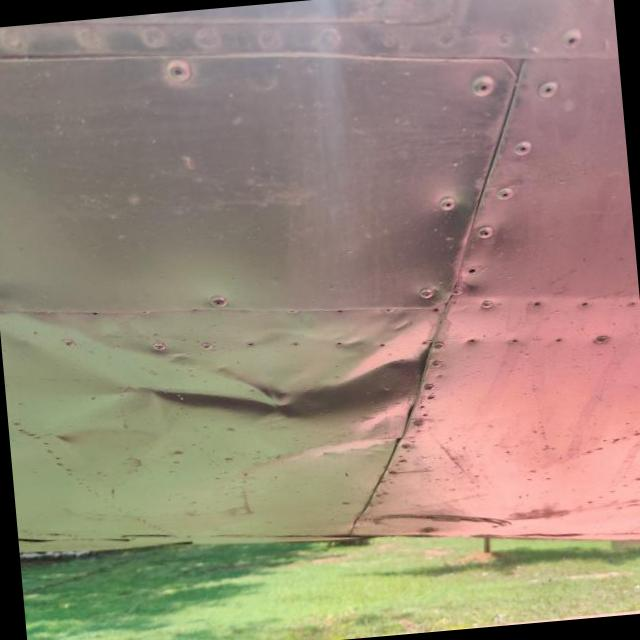Dent: (91, 309, 437, 505)
